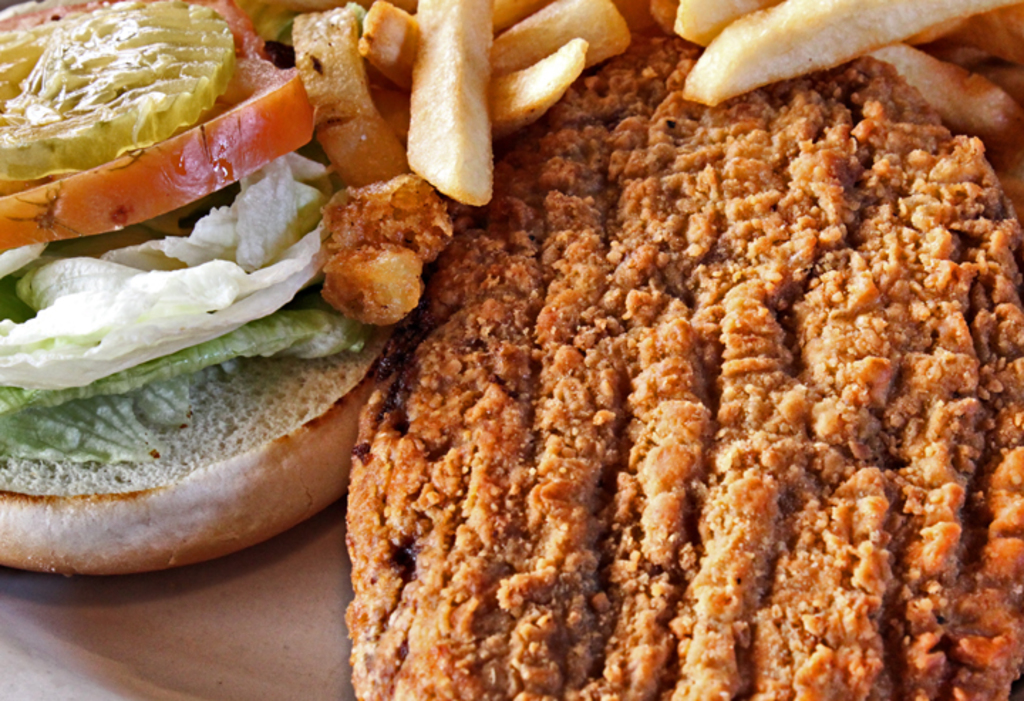French fries: (672, 0, 1022, 112), (318, 157, 453, 336), (287, 5, 406, 197), (853, 36, 1022, 147), (399, 0, 490, 201), (496, 0, 641, 73), (490, 36, 590, 140), (913, 0, 1022, 62), (668, 0, 780, 46), (359, 0, 415, 86)
